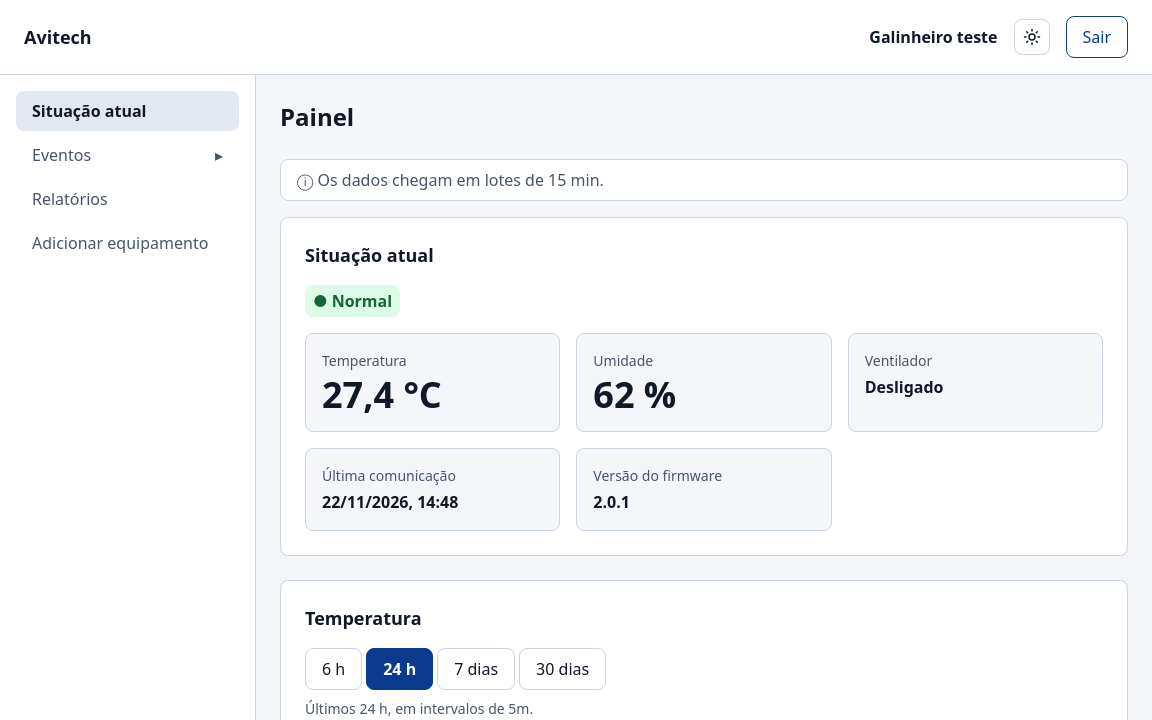
Test: rotas › o menu lateral tem Situação atual, Eventos (com Todos e os 7 tipos) e Relatórios
expect the link "Relatórios" is shown: met, box left=32, top=188, right=108, bottom=210
Click the button "Eventos ▸": (128, 155) left=16, top=135, right=239, bottom=175
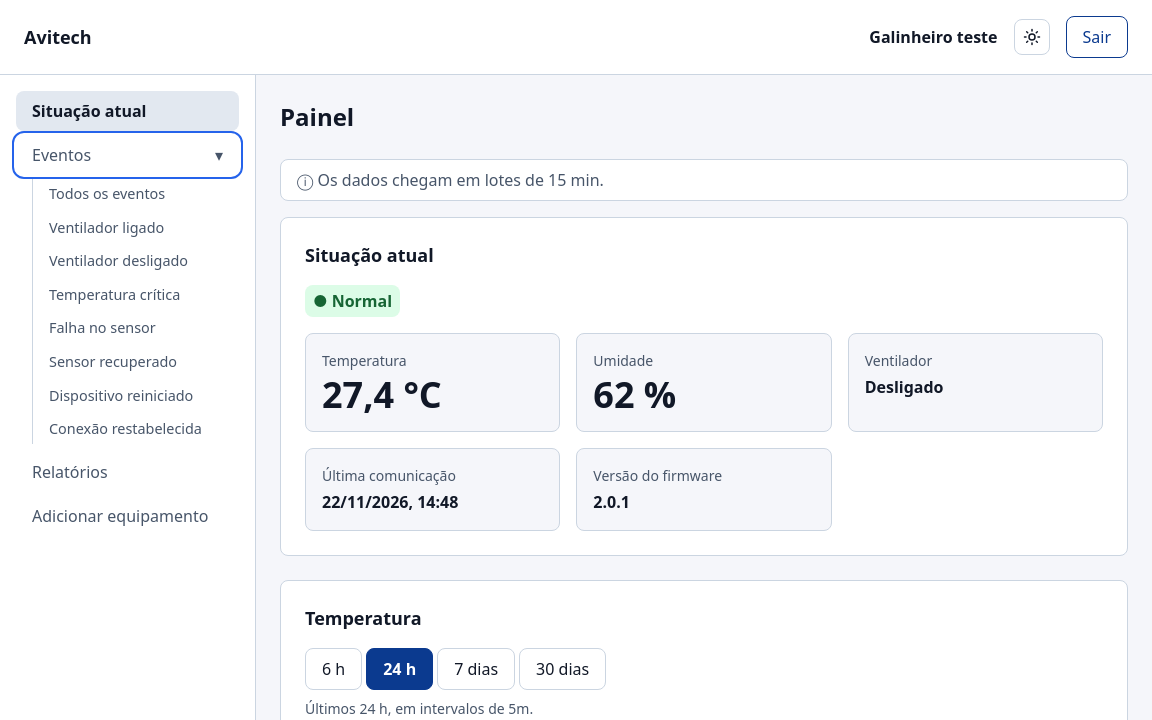
Click the link "Falha no sensor": (102, 328) left=49, top=318, right=156, bottom=337
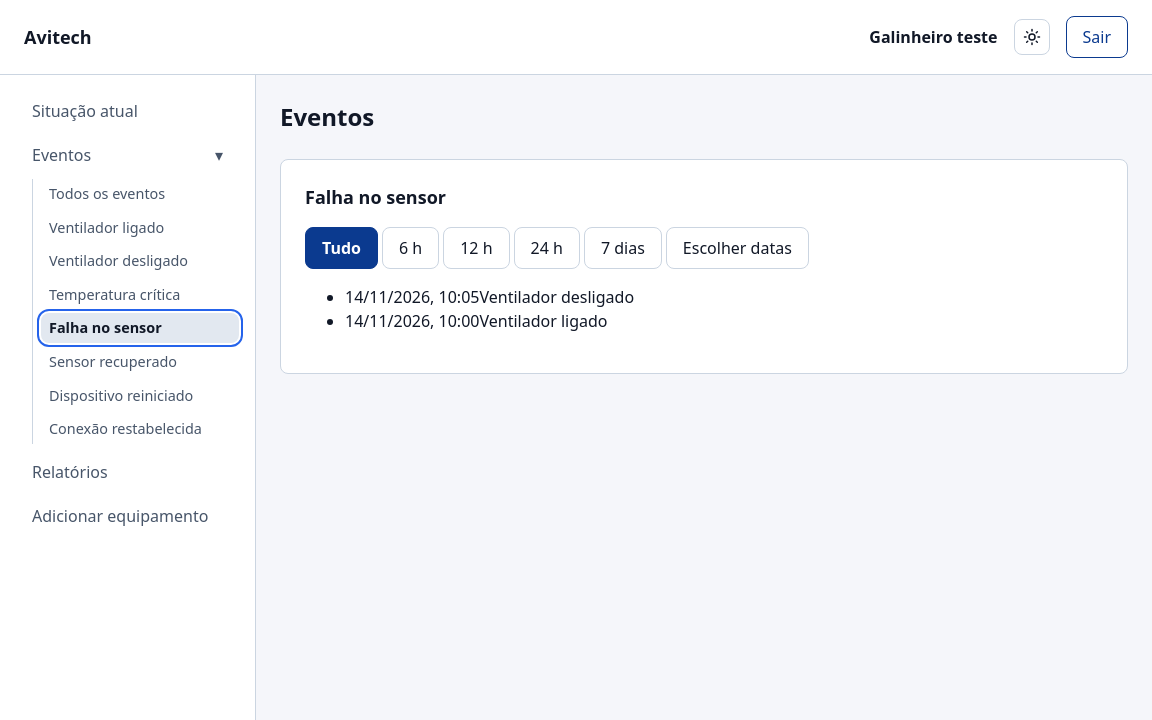
expect the heading "Falha no sensor" is shown: met, box left=305, top=185, right=446, bottom=209
